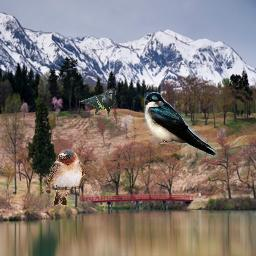Crow: (79, 88, 116, 117)
Swallow: (144, 92, 217, 157), (46, 149, 86, 206)
